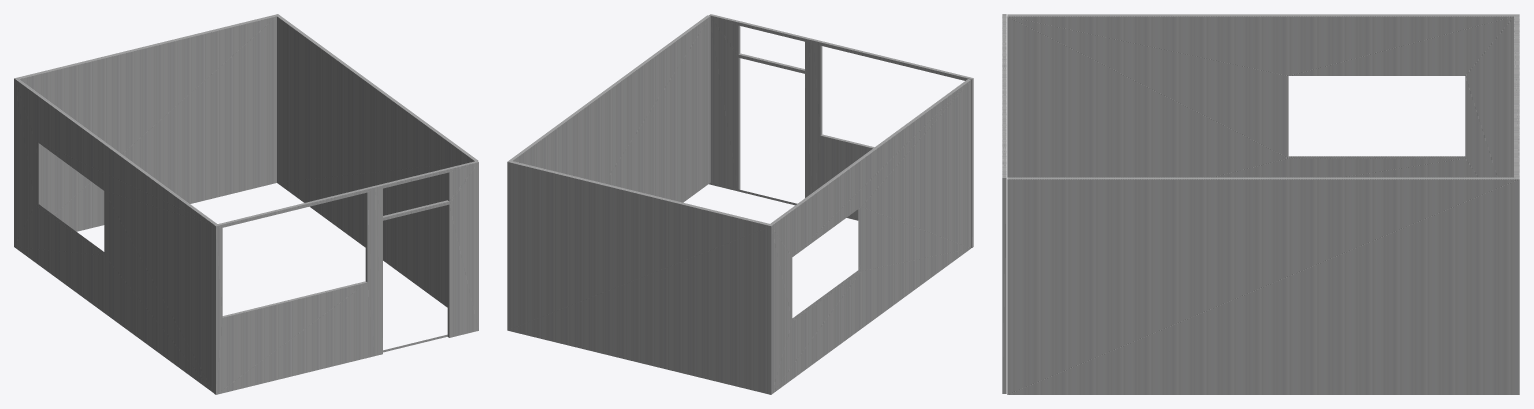
Rendered from RoomWalls.FBX.
3 renders of one model, left to right at view 1: azimuth 30°, elevation 25°; view 2: azimuth 150°, elevation 25°; view 3: azimuth 270°, elevation 25°, orthographic. The views are drawn at different scales.
Parts seen in each view (by area): view 1: Object002; view 2: Object002; view 3: Object002.
Part boxes in pixels (left/top/right/bottom): Object002: left=14, top=14, right=478, bottom=394; Object002: left=507, top=14, right=973, bottom=394; Object002: left=1002, top=14, right=1519, bottom=394.
Bounding box in the file's own units: 1436 × 877 × 1902.
1 material, 1 textured.
